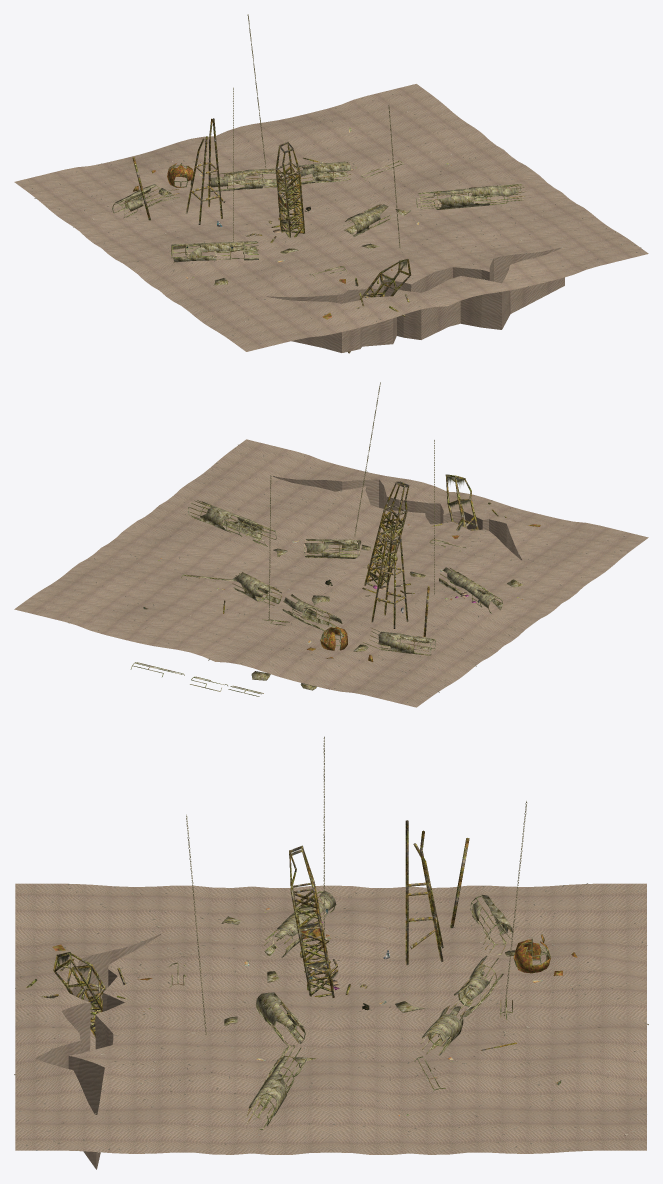
Rendered from underwater.glb.
The picture shows the model from 3 angles, top to bottom: view 1: azimuth 30°, elevation 25°; view 2: azimuth 150°, elevation 25°; view 3: azimuth 270°, elevation 25°; orthographic projection. The views are drawn at different scales.
Visible parts, largest first — view 1: sand, structure_skeleton, structure_003, structure_002, wood_plank; view 2: sand, structure_skeleton, structure_003, structure_002, wood_plank, structure_globe; view 3: sand, structure_skeleton, structure_003, structure_002, wood_plank, structure_globe.
Part boxes in pixels (box(x1,y1,x2,y2)): sand: box(14, 84, 648, 352); structure_skeleton: box(112, 160, 525, 285); structure_003: box(246, 141, 411, 353); structure_002: box(132, 118, 325, 224); wood_plank: box(31, 94, 641, 343); sand: box(14, 439, 648, 707); structure_skeleton: box(130, 500, 524, 696); structure_003: box(362, 474, 540, 593); structure_002: box(223, 515, 429, 636); wood_plank: box(44, 443, 628, 702); structure_globe: box(307, 627, 373, 661); sand: box(15, 883, 646, 1169); structure_skeleton: box(169, 891, 515, 1129); structure_003: box(26, 845, 350, 1037); structure_002: box(405, 820, 516, 1050); wood_plank: box(14, 883, 648, 1153); structure_globe: box(513, 934, 577, 975).
Bounding box in the file's own units: 253 × 129 × 253.
Materials: 17 (16 with a texture image).
